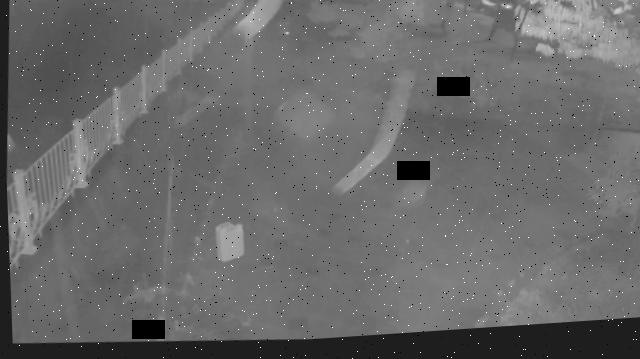bag: (212, 223, 243, 266)
